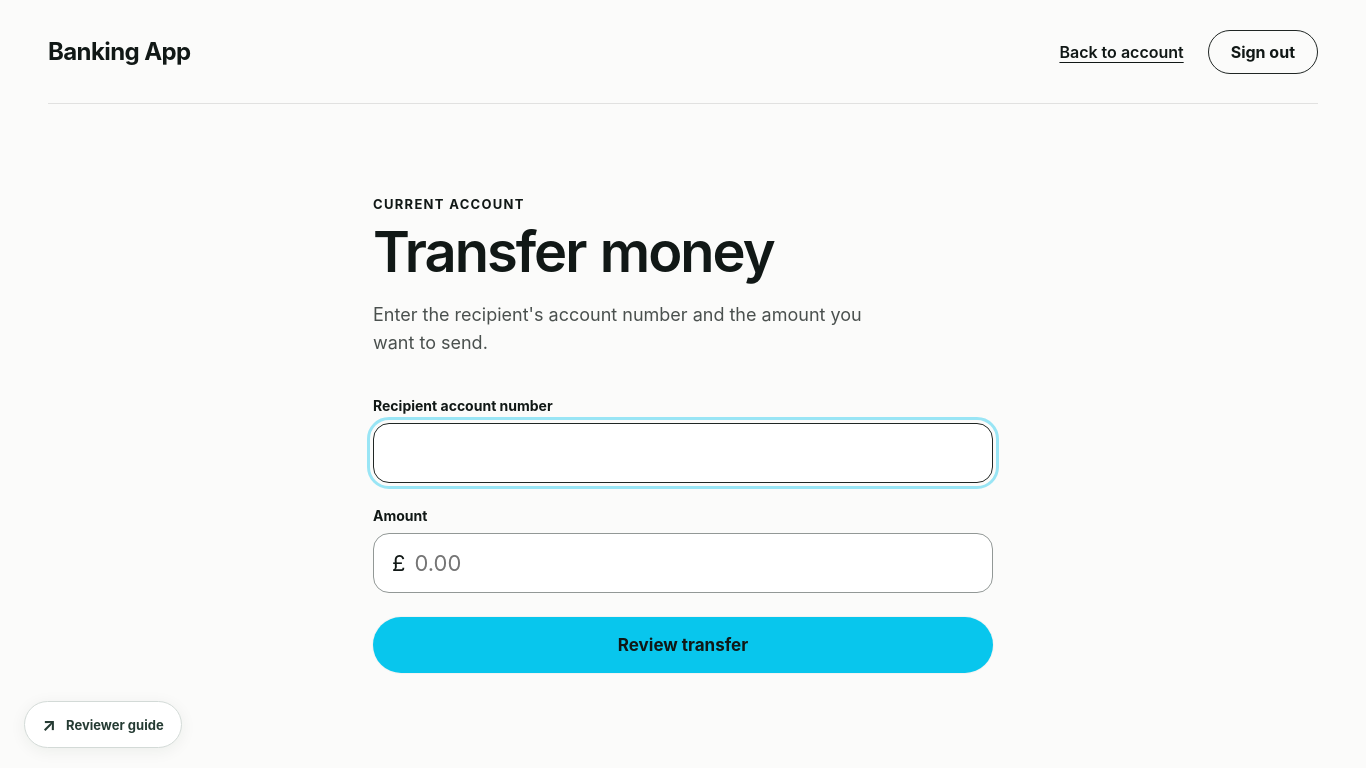
Test: transfer flow › reviews a transfer and shows the recipient it resolved
Type "61504" into the field labelled "Recipient account number" at (683, 453), box [373,423,993,483]
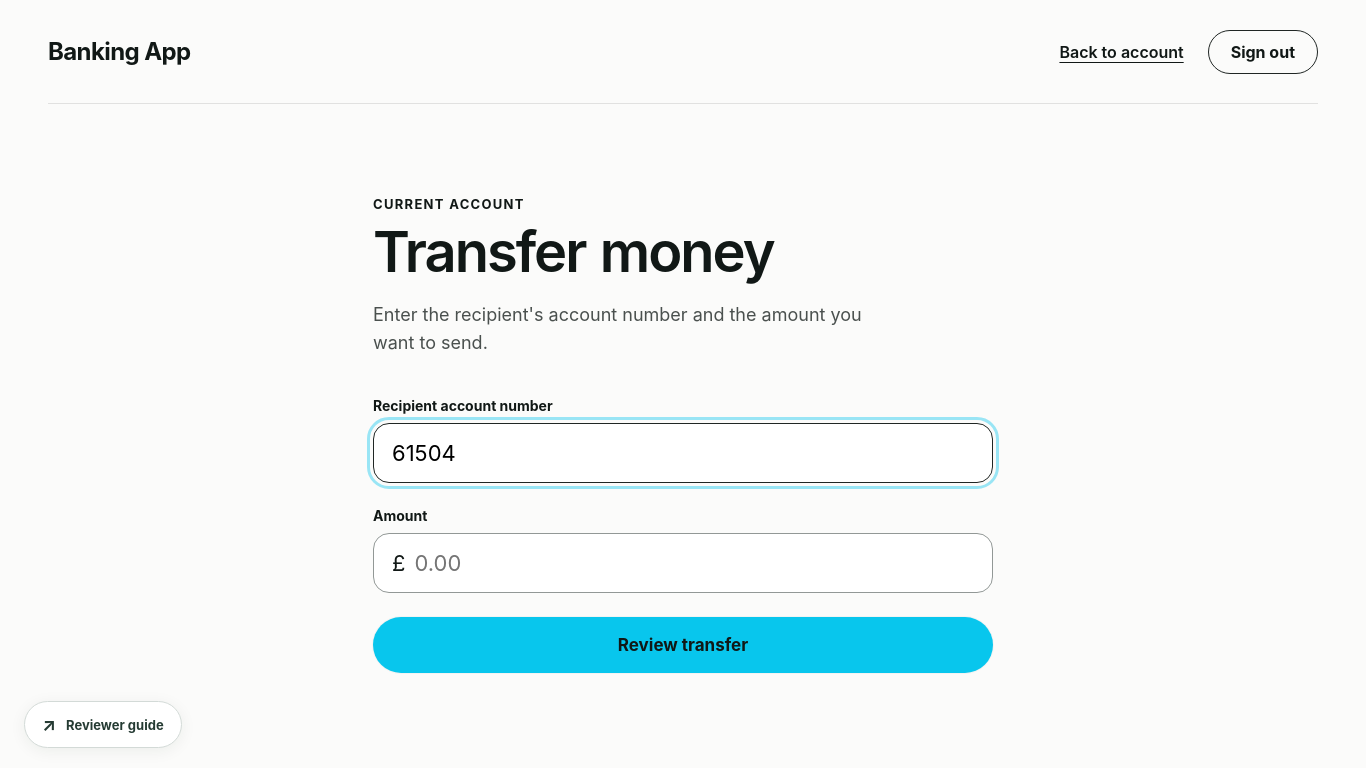
Type "25.50" into the field labelled "Amount" at (693, 563), box [412,549,974,577]
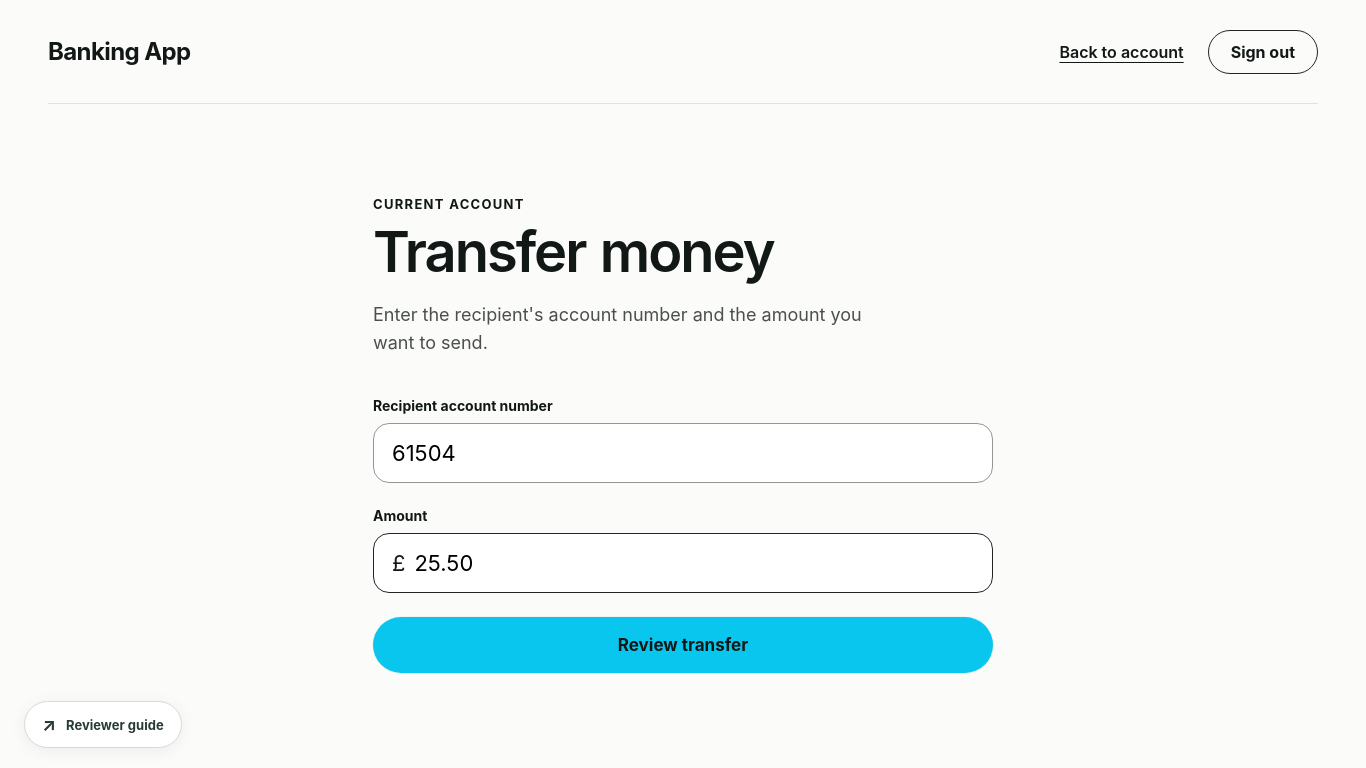
Click the button "Review transfer" at (683, 645), box [373,617,993,673]
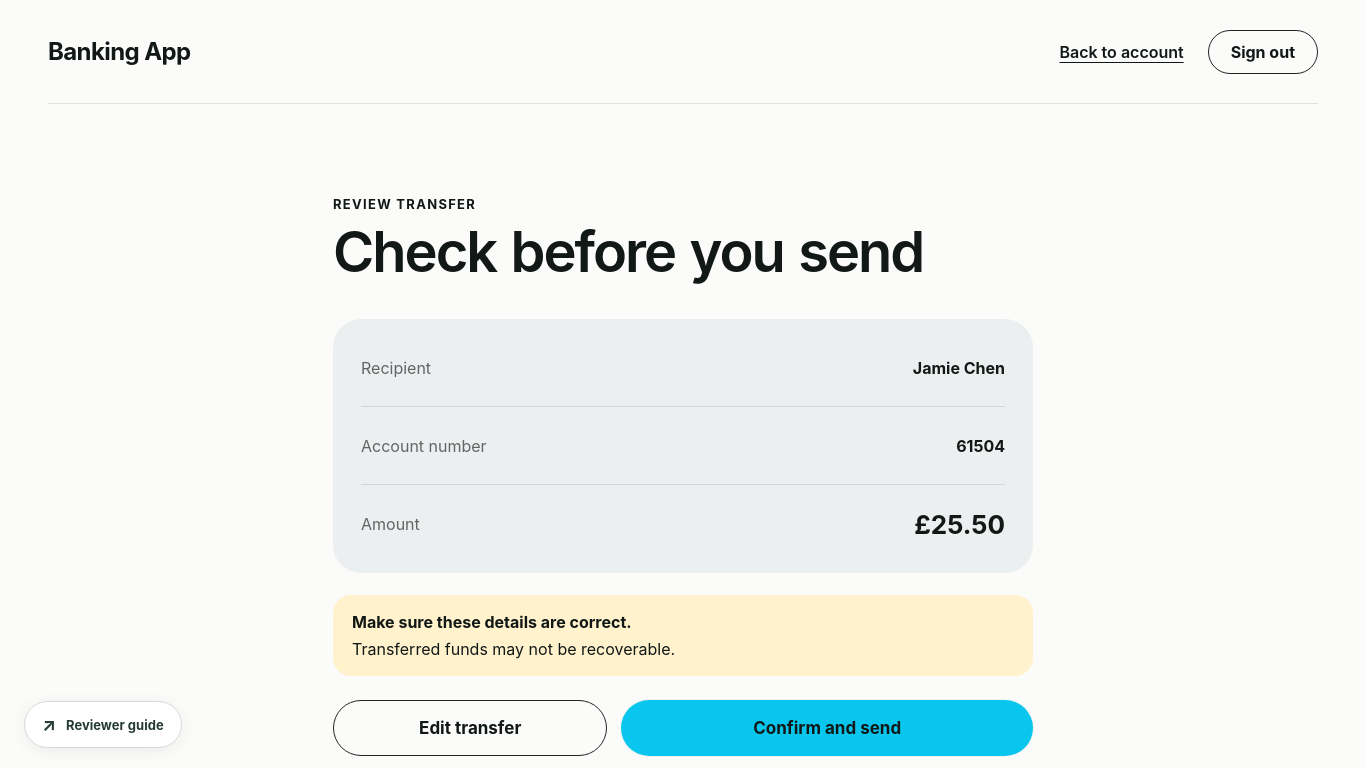
Check: the heading "Check before you send" is shown, box [333,218,923,286]
Check: the text "Jamie Chen" is shown, box [913,358,1005,378]
Check: the text "61504" is shown, box [956,436,1005,456]
